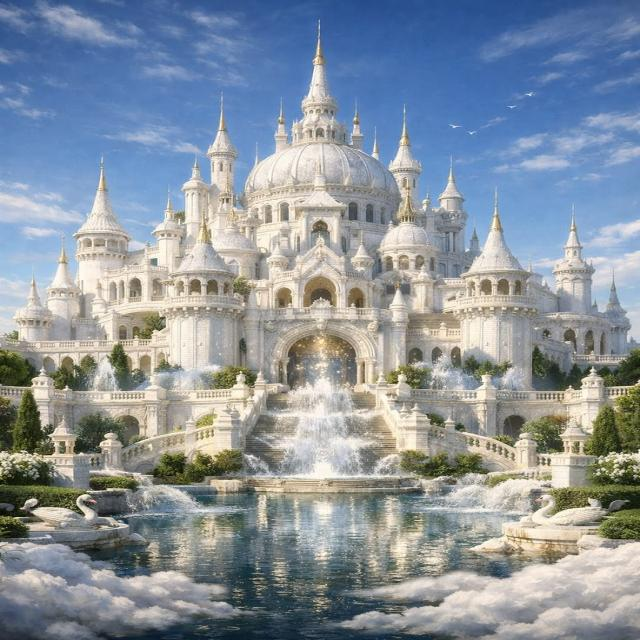castle: (20, 6, 623, 495)
